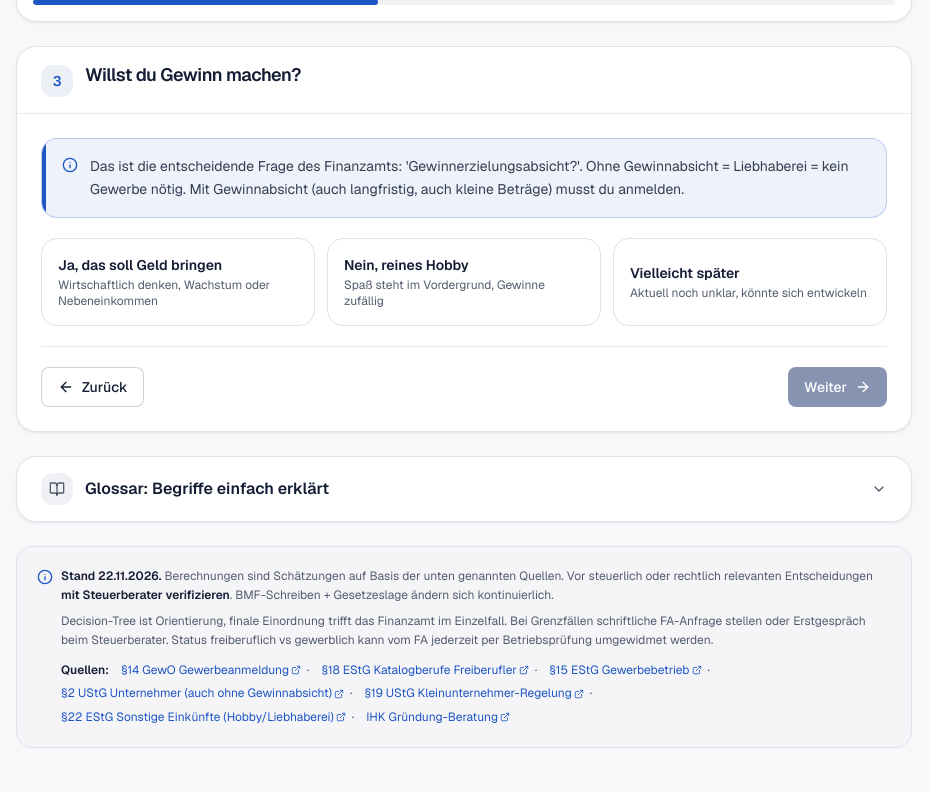
Test: GewerbeCheck — Decision-Tree (verschiedene Pfade) › Pfad: Hobby (keine Gewinnabsicht) → 'Du brauchst (noch) kein Gewerbe'
The width and height of the screenshot is (929, 792).
Earlier steps of the test are not shown.
(page scrolled)
Click the text "Nein, reines Hobby".
click(406, 265)  # box [344,256,469,274]
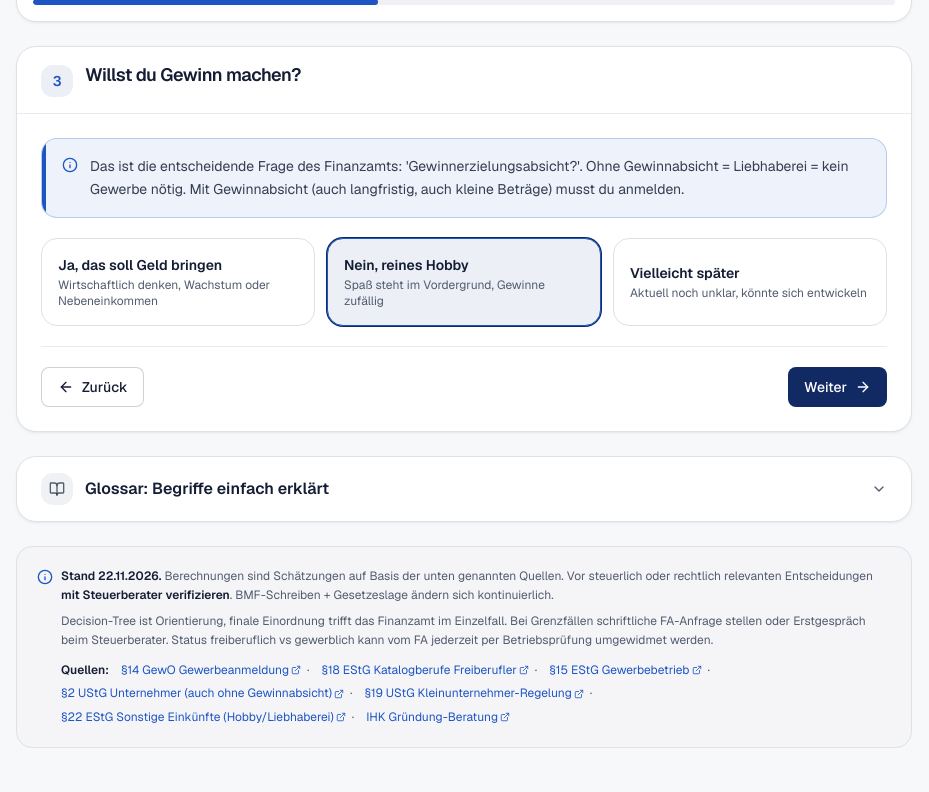
Click the button "Weiter".
click(838, 387)  # box [788,367,887,407]
(page scrolled)
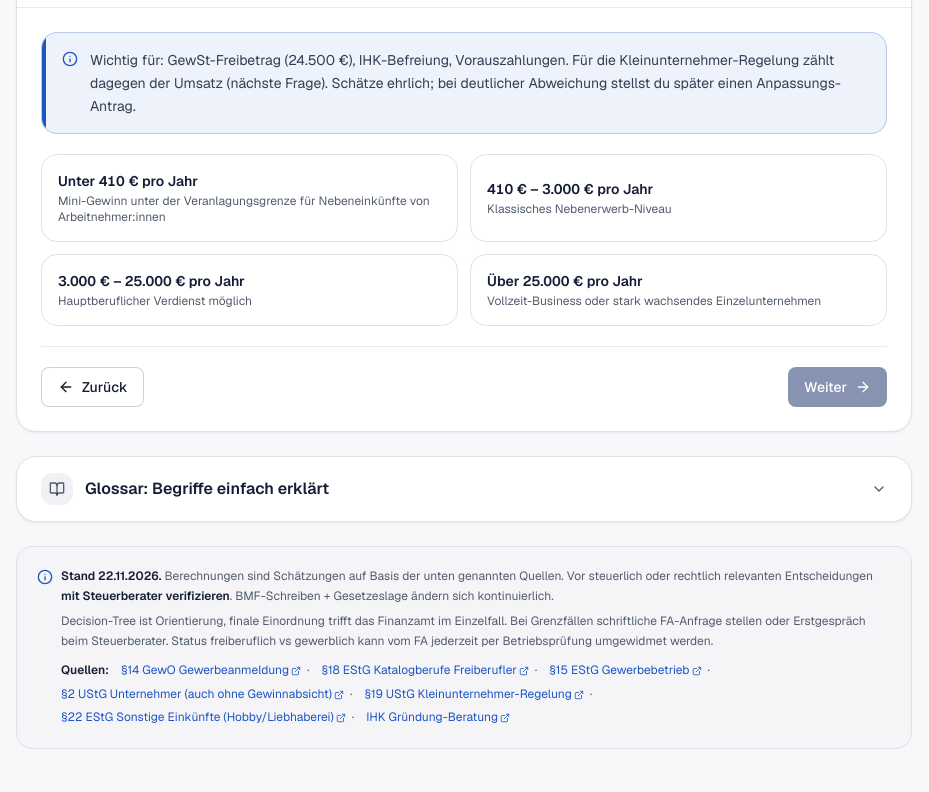
Click the text "Unter 410 € pro Jahr".
click(128, 182)  # box [58,172,198,190]
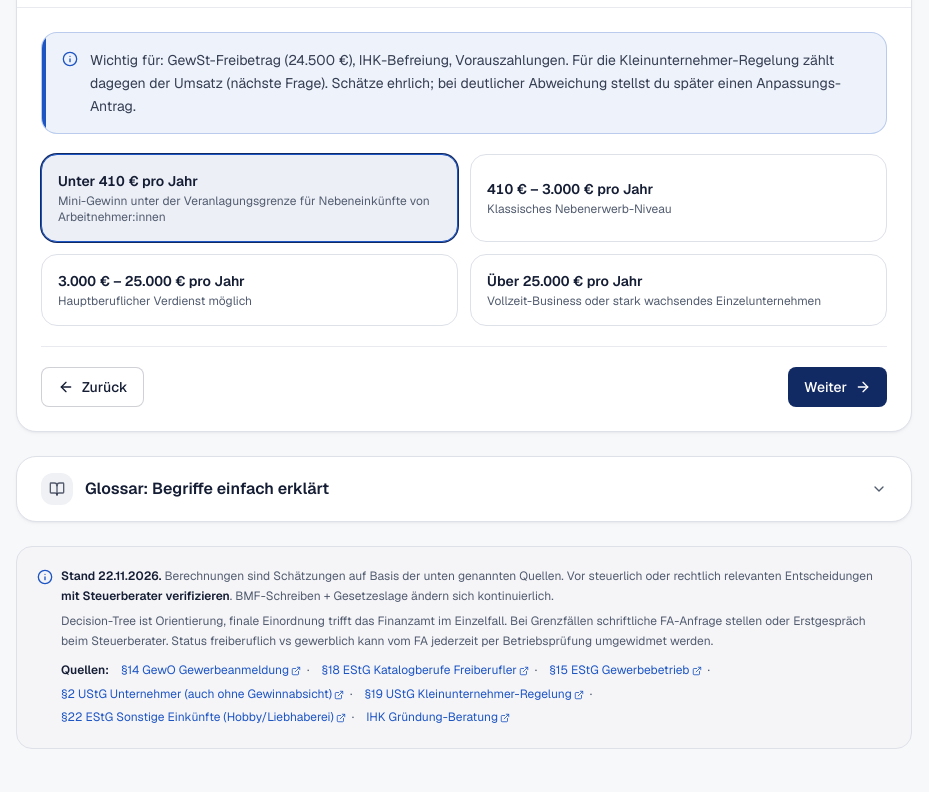
Click the button "Weiter".
click(838, 388)  # box [788,368,887,408]
(page scrolled)
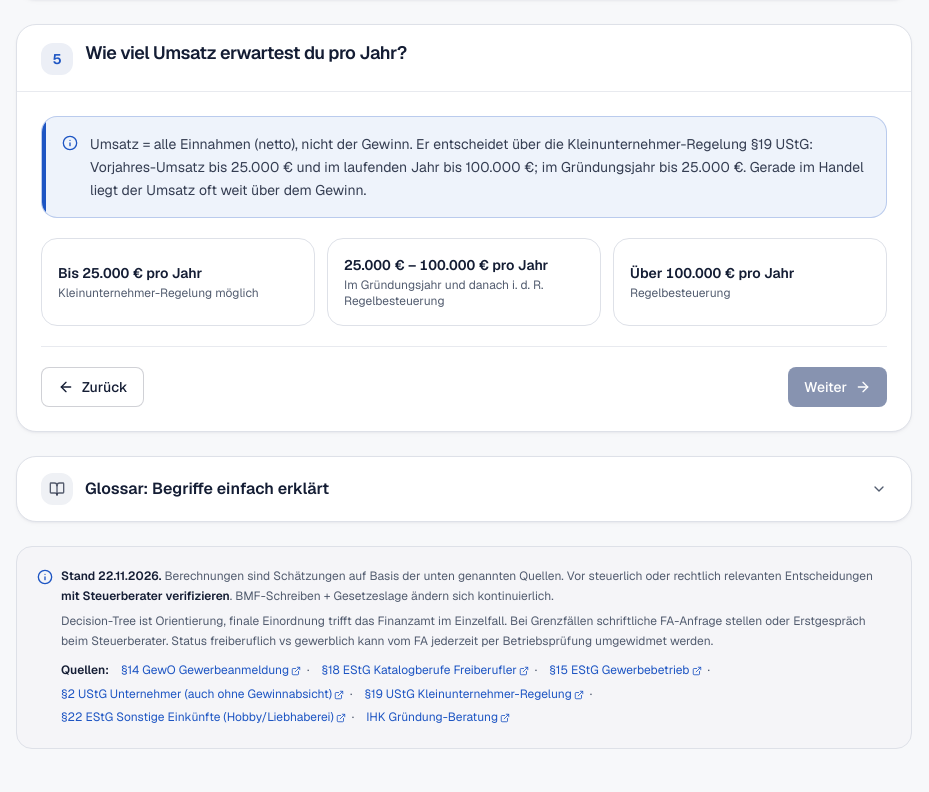
Click the text "Bis 25.000 € pro Jahr".
click(130, 274)  # box [58,264,202,282]
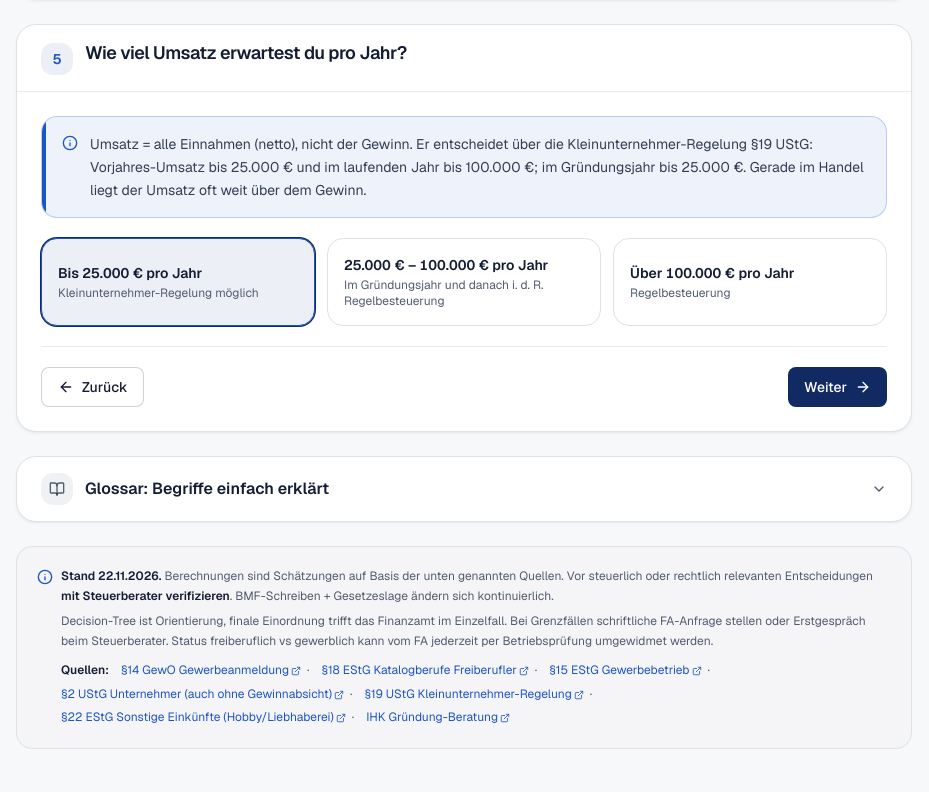
Click the button "Weiter".
click(838, 388)  # box [788,368,887,408]
(page scrolled)
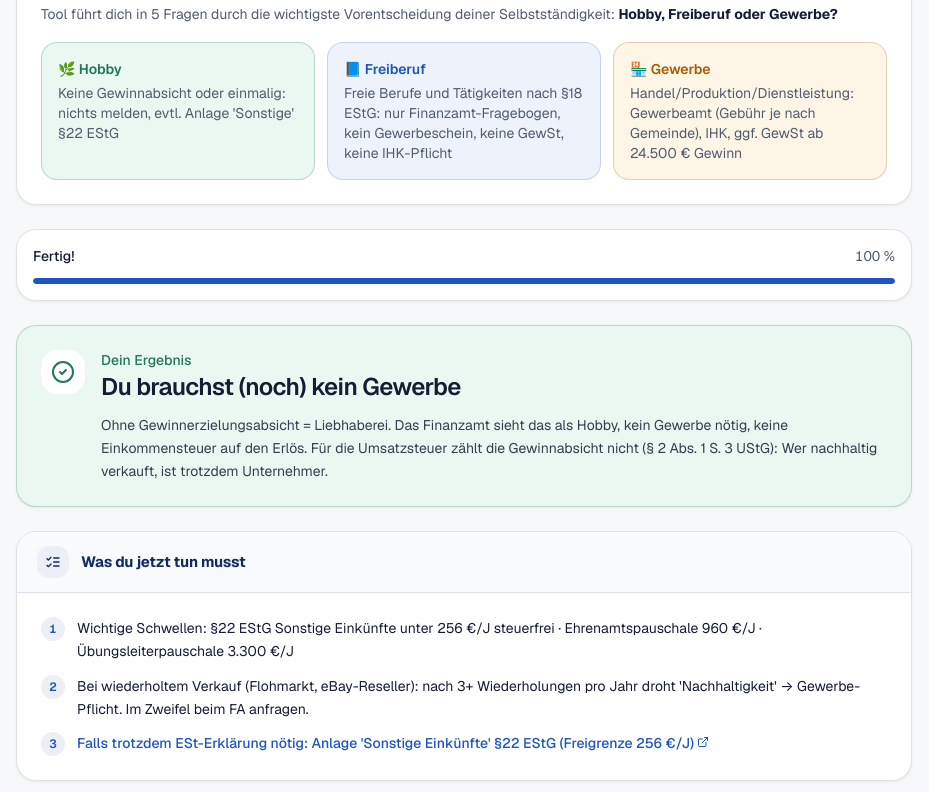
Check: the text "Liebhaberei" is shown, box [101,416,877,480]
Check: the heading "Du brauchst (noch) kein Gewerbe" is shown, box [101,371,461,402]
